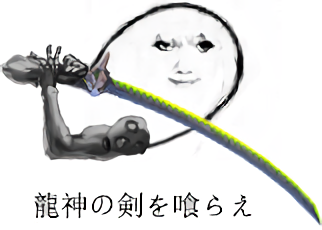dragon: (150, 32, 217, 87)
